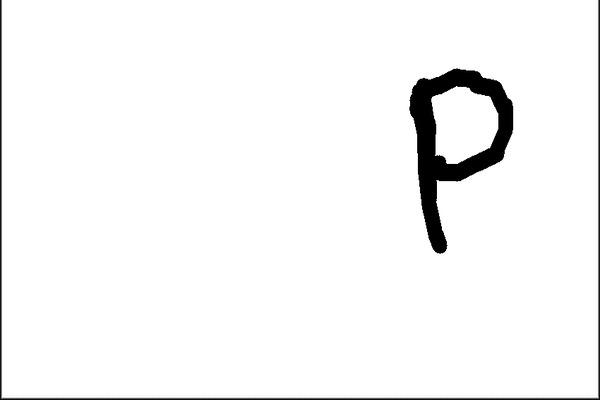P: (398, 54, 523, 255)
